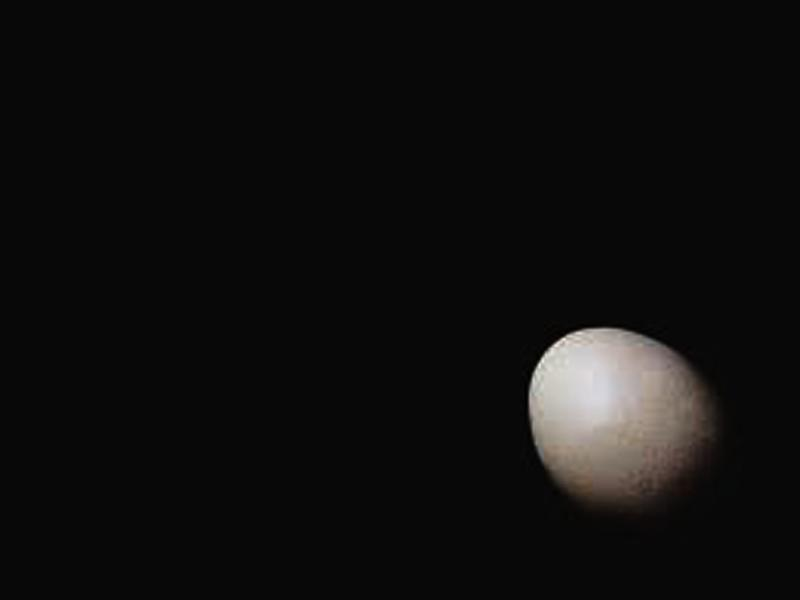Eggs: (528, 325, 732, 523)
